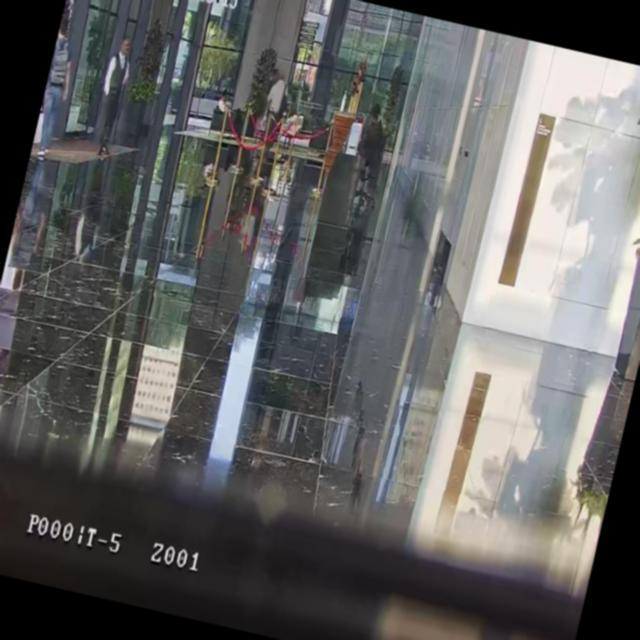person: (30, 16, 84, 160), (86, 33, 138, 157), (252, 70, 292, 169), (353, 105, 388, 169), (216, 86, 230, 112)
